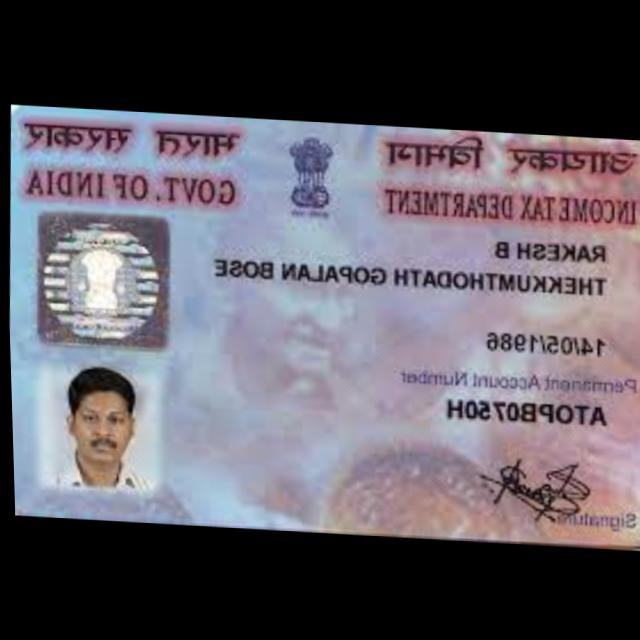pan: (2, 103, 640, 547)
